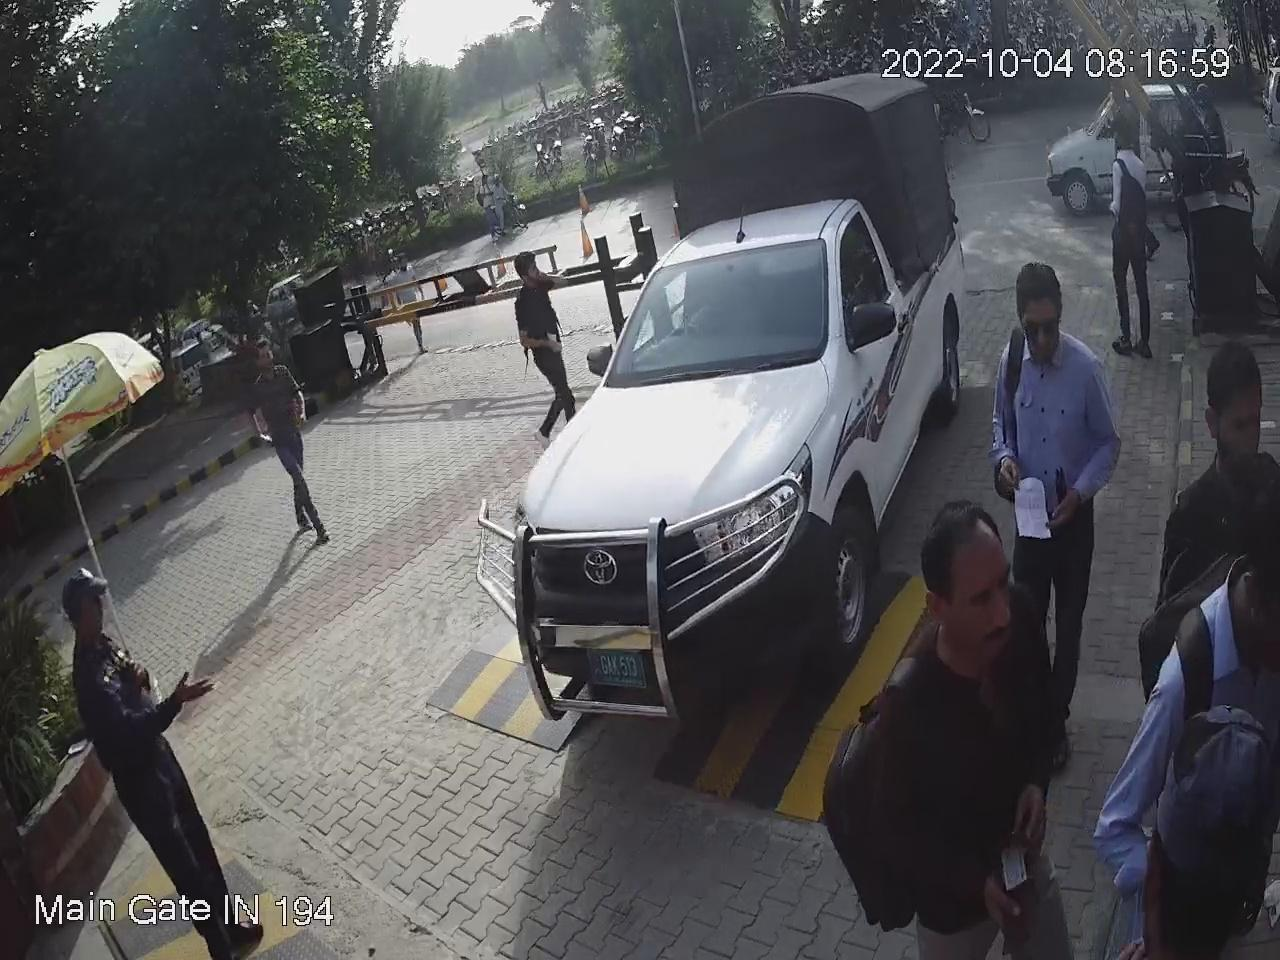windshield: (606, 225, 833, 385)
